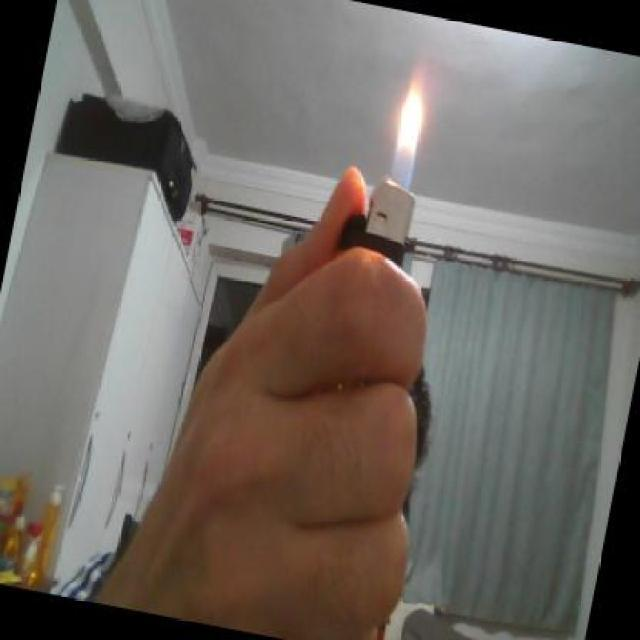Fire: (398, 50, 430, 194)
